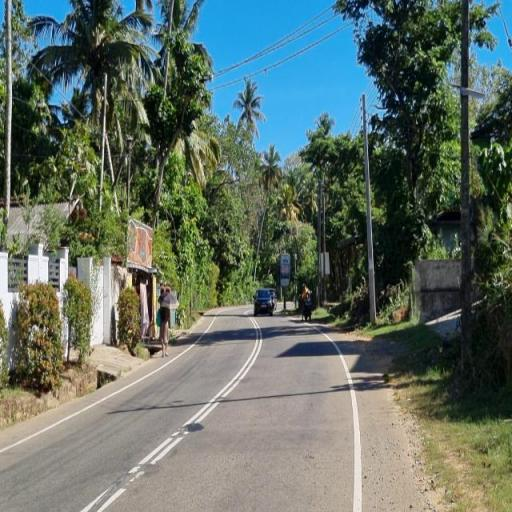double_white_line: (124, 320, 266, 497)
